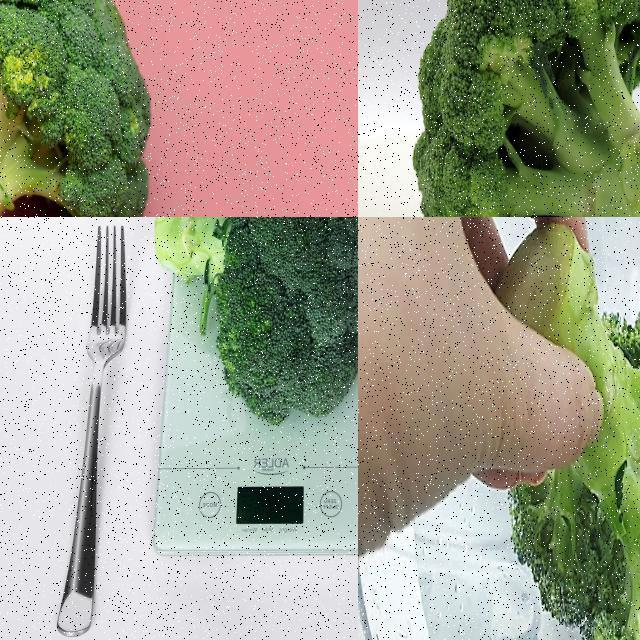broccoli: (490, 217, 639, 639), (406, 0, 639, 216), (152, 217, 357, 432), (0, 0, 162, 216)
